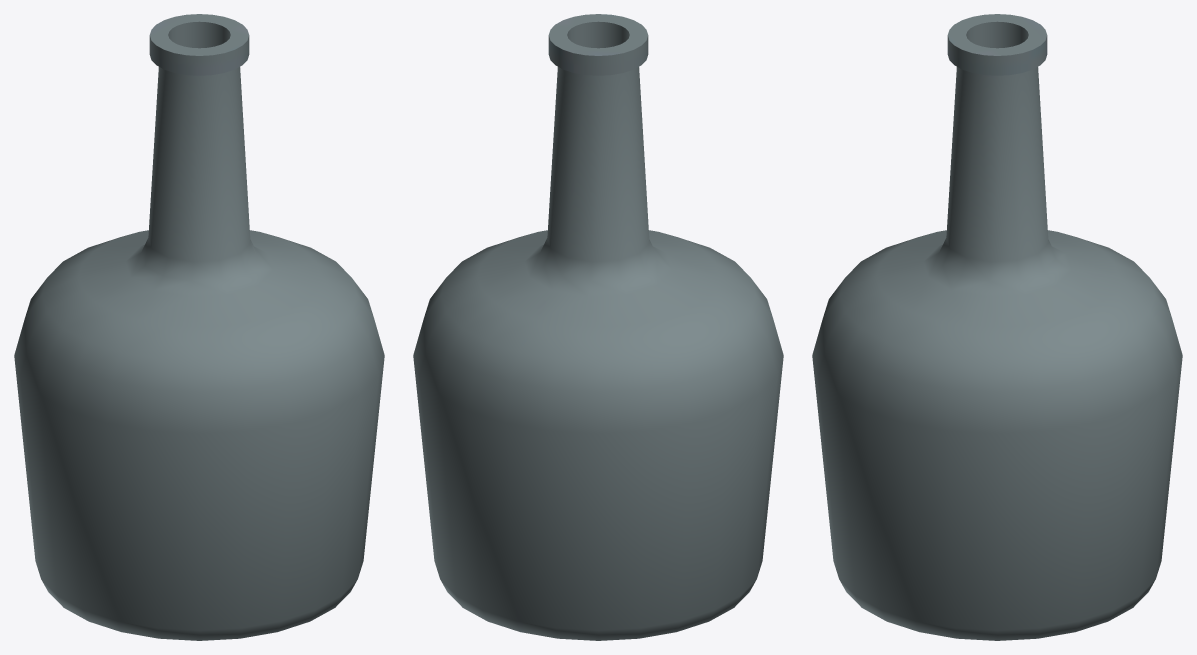
Rendered from SM_Bottle_2.FBX.
3 views of the same model, side by side, from view 1: azimuth 30°, elevation 25°; view 2: azimuth 150°, elevation 25°; view 3: azimuth 270°, elevation 25° (orthographic).
Visible parts, largest first — view 1: SM_Bottle_2; view 2: SM_Bottle_2; view 3: SM_Bottle_2.
Boxes of the visible parts, x1=… form: SM_Bottle_2: x1=14, y1=14, x2=384, y2=640; SM_Bottle_2: x1=413, y1=14, x2=783, y2=640; SM_Bottle_2: x1=812, y1=14, x2=1182, y2=640.
Size of the model in its own units: 15.41 by 25.03 by 15.41.
